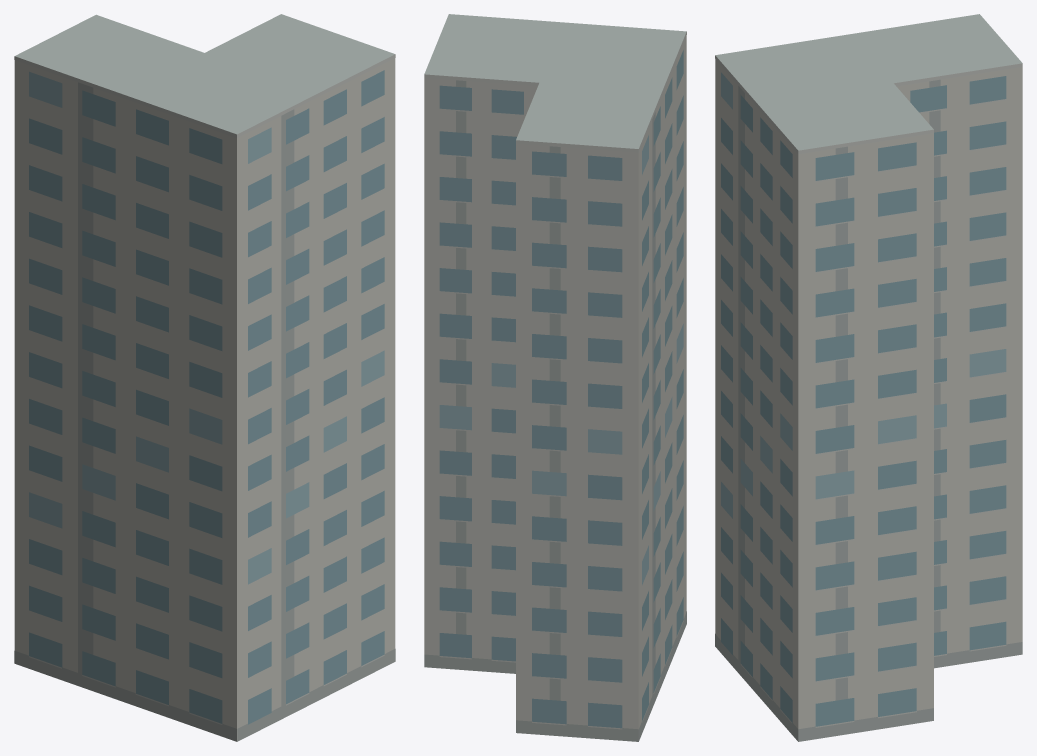
The model's file is residential-55d12571-a6e9-4a90-9b17-f3a93d807ced.glb.
3 renders of one model, left to right at view 1: azimuth 30°, elevation 25°; view 2: azimuth 150°, elevation 25°; view 3: azimuth 270°, elevation 25°, orthographic. The views are drawn at different scales.
Parts seen in each view (by area): view 1: residential-55d12571-a6e9-4a90-9b17-f3a93d807ced.tmp; view 2: residential-55d12571-a6e9-4a90-9b17-f3a93d807ced.tmp; view 3: residential-55d12571-a6e9-4a90-9b17-f3a93d807ced.tmp.
Boxes of the visible parts, x1,y1,x2,y2 form: residential-55d12571-a6e9-4a90-9b17-f3a93d807ced.tmp: [14, 14, 395, 741]; residential-55d12571-a6e9-4a90-9b17-f3a93d807ced.tmp: [424, 14, 686, 741]; residential-55d12571-a6e9-4a90-9b17-f3a93d807ced.tmp: [715, 14, 1022, 741].
Bounding box in the file's own units: 19.84 × 40 × 18.87.
